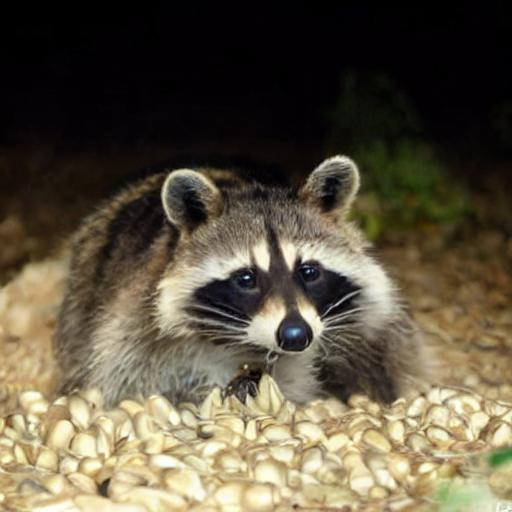raccoon: (49, 148, 424, 411)
